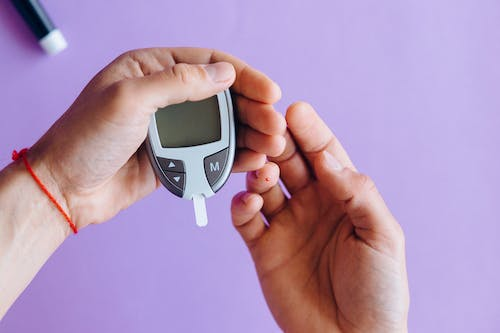blood: (265, 176, 271, 183)
